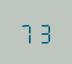seven: (19, 20, 35, 44)
three: (36, 19, 52, 43)
